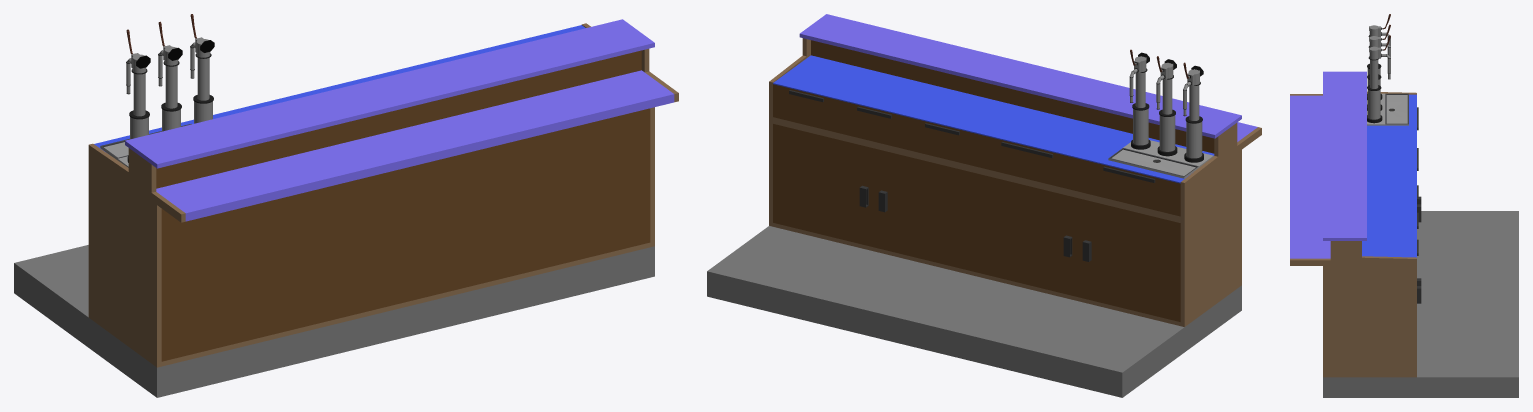
3 views of the same model, side by side, from view 1: azimuth 30°, elevation 25°; view 2: azimuth 150°, elevation 25°; view 3: azimuth 270°, elevation 25° (orthographic). The views are drawn at different scales.
Parts seen in each view (by area): view 1: Cube, Cylinder, Cylinder.001, Cylinder.002; view 2: Cube, Cube.001, Cylinder.001, Cylinder, Cylinder.002; view 3: Cube, Cylinder.002, Cube.001, Cylinder.001, Cylinder.
Part boxes in pixels (bbox=[...]): Cube: bbox=[14, 19, 678, 397]; Cylinder: bbox=[126, 29, 150, 162]; Cylinder.001: bbox=[158, 21, 182, 131]; Cylinder.002: bbox=[190, 14, 214, 123]; Cube: bbox=[707, 14, 1261, 397]; Cube.001: bbox=[1108, 140, 1213, 178]; Cylinder.001: bbox=[1156, 56, 1177, 156]; Cylinder: bbox=[1183, 62, 1203, 162]; Cylinder.002: bbox=[1129, 49, 1150, 149]; Cube: bbox=[1290, 71, 1518, 397]; Cylinder.002: bbox=[1367, 35, 1390, 123]; Cube.001: bbox=[1367, 93, 1408, 125]; Cylinder.001: bbox=[1367, 24, 1390, 110]; Cylinder: bbox=[1367, 14, 1390, 99].
Bounding box in the file's own units: 15548 × 9781 × 9042.
